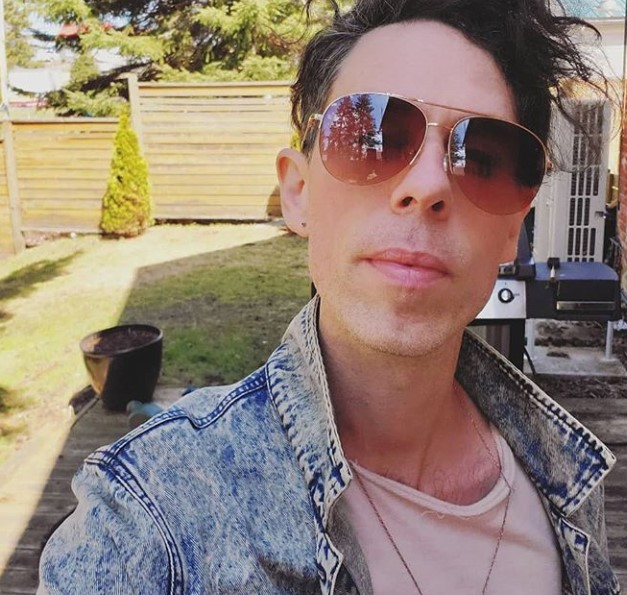face_no_mask: (294, 22, 538, 365)
